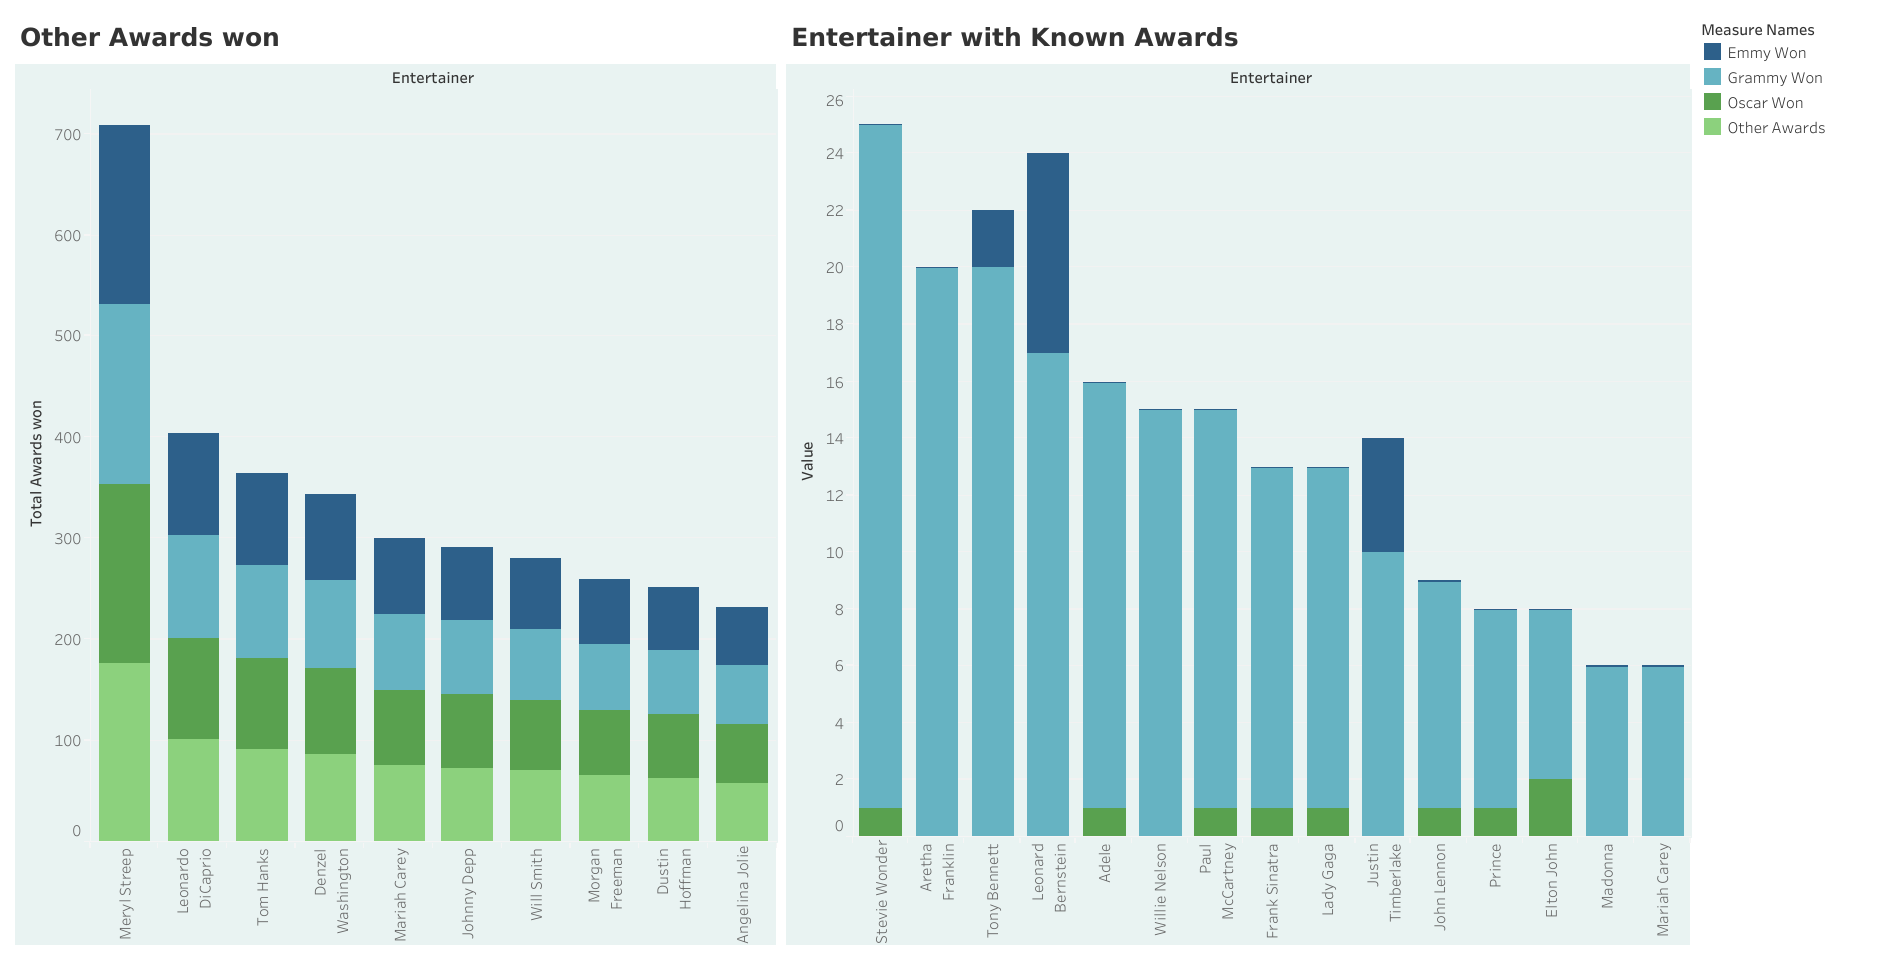

What the dashboard file says about the page in this screenshot:
{"tool":"tableau","page":{"name":"Dashboard 3","canvas":[1524,768],"ordinal":2},"visuals":[{"type":"worksheet","title":"Other Awards won","mark":"Automatic","rows":["Total Awards won"],"cols":["Entertainer"],"box":[8,8,617,752]},{"type":"worksheet","title":"Entertainer with Known Awards","mark":"Automatic","cols":["Entertainer"],"box":[625,8,731,752]},{"type":"legend","title":"Other Awards won","param":"[federated.00bymi516ipdjf1fy40e70tkaaqx].[:Measure Names]","box":[1356,8,160,114]}]}

Visuals, with their boxes in screenshot pixels (x1, y1, x2, y2), scaled from the page's 1524x768 canvas onto the 1904x959 screenshot:
"Other Awards won" worksheet: {"left": 10, "top": 10, "right": 781, "bottom": 949}
"Entertainer with Known Awards" worksheet: {"left": 781, "top": 10, "right": 1694, "bottom": 949}
"Other Awards won" legend: {"left": 1694, "top": 10, "right": 1894, "bottom": 152}
